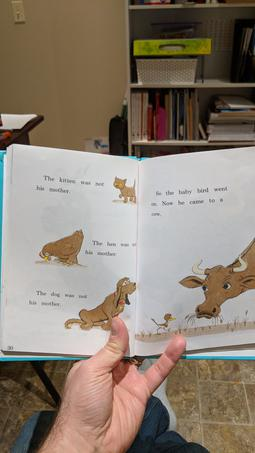text block: (144, 186, 234, 216), (29, 169, 111, 200), (24, 281, 94, 307), (80, 233, 138, 261)
